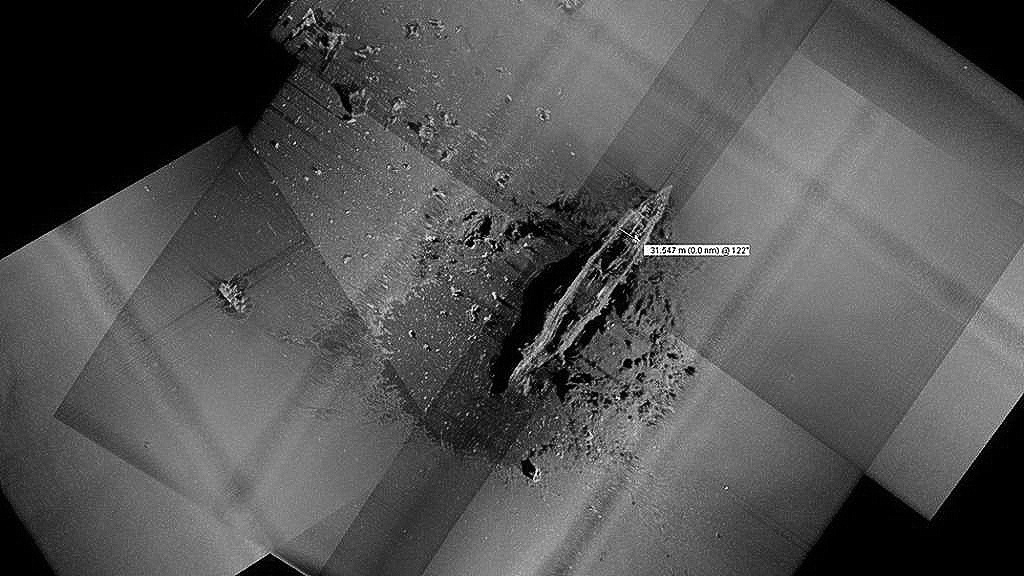ship: (503, 174, 677, 395)
